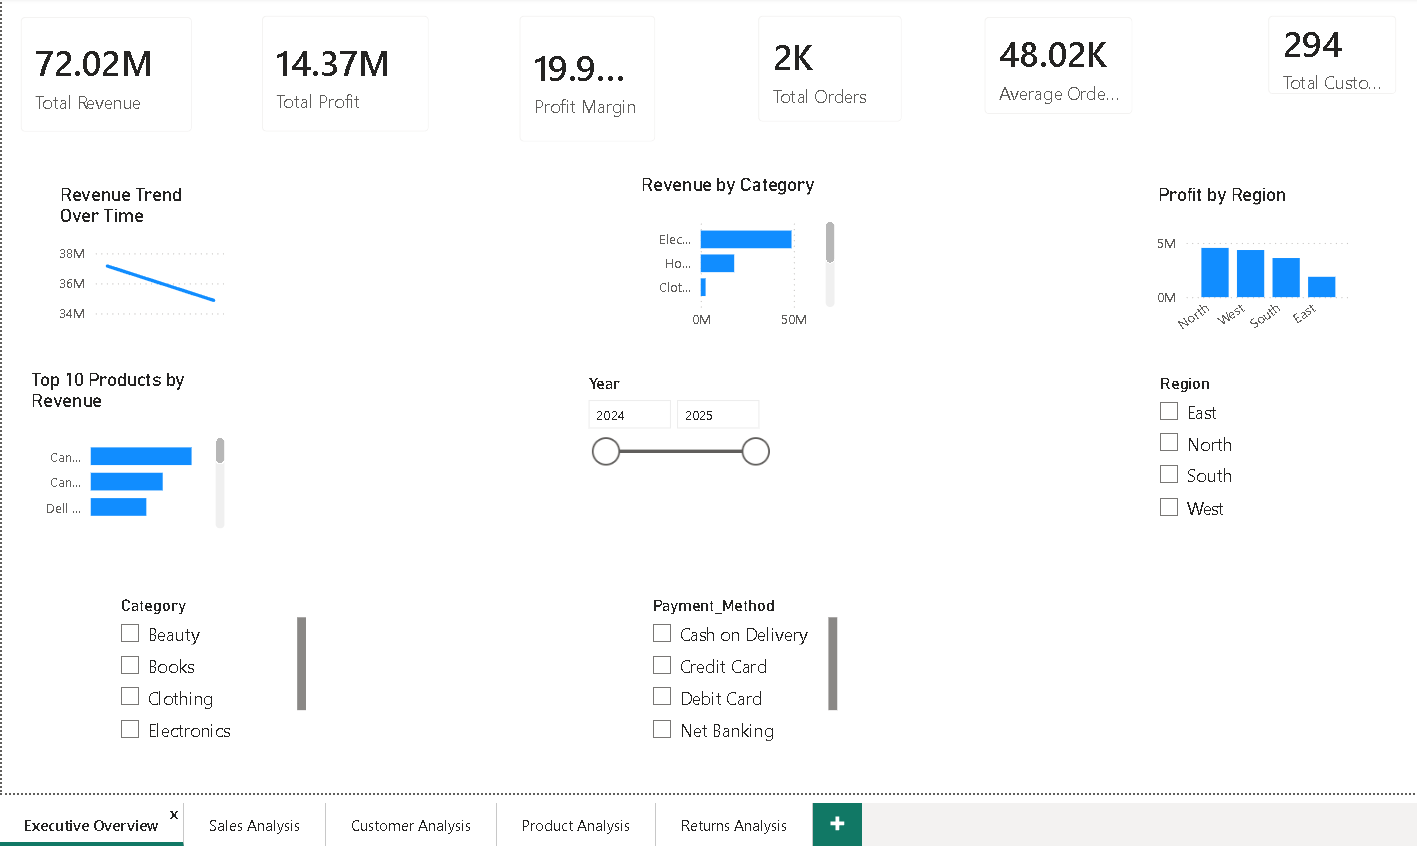

This screenshot's page, from the dashboard's own definition file:
{"tool":"powerbi","page":{"name":"Executive Overview","canvas":[1280,720],"ordinal":0},"visuals":[{"type":"cardVisual","fields":{"Data":["Orders_Cleaned.Total Revenue"]},"box":[0,1.4,189.4,138.6],"z":0},{"type":"cardVisual","fields":{"Data":["Orders_Cleaned.Total Profit"]},"box":[218.2,0,185.2,140],"z":1000},{"type":"cardVisual","fields":{"Data":["Orders_Cleaned.Total Orders"]},"box":[666.9,0,164.7,130.4],"z":2000},{"type":"cardVisual","fields":{"Data":["Orders_Cleaned.Profit Margin"]},"box":[451.5,0,157.8,148.2],"z":3000},{"type":"cardVisual","fields":{"Data":["Orders_Cleaned.Average Order Value"]},"box":[871.4,1.4,168.8,122.1],"z":4000},{"type":"cardVisual","fields":{"Data":["Orders_Cleaned.Total Customers"]},"box":[1128,0,150.9,105.7],"z":5000},{"type":"lineChart","title":"Revenue Trend Over Time","fields":{"Category":["DateTable.Date.Variation.Date Hierarchy.Year","DateTable.Date.Variation.Date Hierarchy.Quarter","DateTable.Date.Variation.Date Hierarchy.Month","DateTable.Date.Variation.Date Hierarchy.Day"],"Y":["Orders_Cleaned.Total Revenue"]},"box":[48,168.8,159.2,131.7],"z":6000},{"type":"clusteredBarChart","title":"Revenue by Category","fields":{"Category":["Products_Cleaned.Category"],"Y":["Orders_Cleaned.Total Revenue"]},"box":[573.6,159.2,185,150],"z":7000},{"type":"clusteredColumnChart","title":"Profit by Region","fields":{"Category":["Customers_Cleaned.Region"],"Y":["Orders_Cleaned.Total Profit"]},"box":[1040.1,168.8,185,150],"z":8000},{"type":"clusteredBarChart","title":"Top 10 Products by Revenue","fields":{"Category":["Products_Cleaned.Product_Name"],"Y":["Orders_Cleaned.Total Revenue"]},"box":[22,336.2,185,150],"z":9000},{"type":"slicer","fields":{"Values":["DateTable.Year"]},"box":[517.3,336.2,185,150],"z":10000},{"type":"slicer","fields":{"Values":["Customers_Cleaned.Region"]},"box":[1034.7,336.2,185,150],"z":11000},{"type":"slicer","fields":{"Values":["Products_Cleaned.Category"]},"box":[94.7,536.5,185,150],"z":12000},{"type":"slicer","fields":{"Values":["Orders_Cleaned.Payment_Method"]},"box":[575,536.5,185,150],"z":13000}]}

Visuals, with their boxes on the page's 1280x720 design canvas (x1, y1, x2, y2). These are canvas units, not pixel positions in the 1417x846 screenshot, which may show the page scaled, cropped or inside an application window:
cardVisual - Orders_Cleaned.Total Revenue: (0, 1, 189, 140)
cardVisual - Orders_Cleaned.Total Profit: (218, 0, 403, 140)
cardVisual - Orders_Cleaned.Total Orders: (667, 0, 832, 130)
cardVisual - Orders_Cleaned.Profit Margin: (452, 0, 609, 148)
cardVisual - Orders_Cleaned.Average Order Value: (871, 1, 1040, 124)
cardVisual - Orders_Cleaned.Total Customers: (1128, 0, 1279, 106)
"Revenue Trend Over Time" lineChart: (48, 169, 207, 300)
"Revenue by Category" clusteredBarChart: (574, 159, 759, 309)
"Profit by Region" clusteredColumnChart: (1040, 169, 1225, 319)
"Top 10 Products by Revenue" clusteredBarChart: (22, 336, 207, 486)
slicer - DateTable.Year: (517, 336, 702, 486)
slicer - Customers_Cleaned.Region: (1035, 336, 1220, 486)
slicer - Products_Cleaned.Category: (95, 536, 280, 686)
slicer - Orders_Cleaned.Payment_Method: (575, 536, 760, 686)
